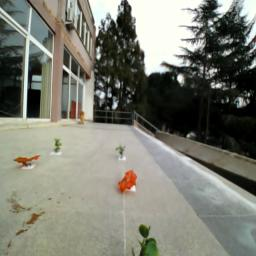herb: (131, 223, 159, 256), (54, 138, 63, 154), (117, 146, 128, 159)
wild: (119, 170, 140, 194), (14, 155, 43, 168)
